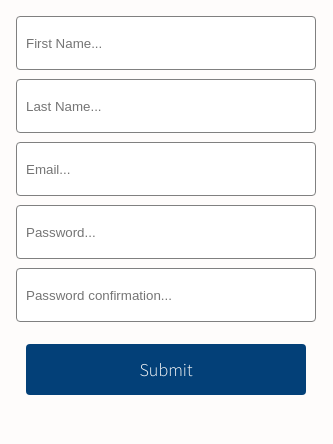
Scenario: RegisterForm tests › gives a note if password and its confirmation don't match
This screenshot has width=333, height=444.
// Simulate a user entering wrong password
Type "Firstname" into the field with placeholder "First Name...".
click(166, 43); type("Firstname")  # box [16,16,316,70]
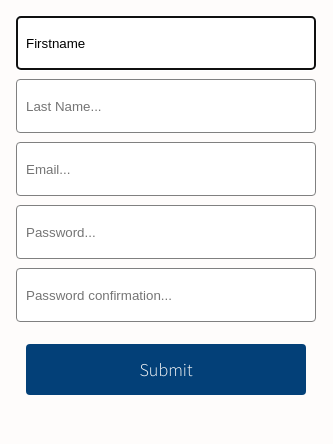
Type "Lastname" into the field with placeholder "Last Name...".
click(166, 106); type("Lastname")  # box [16,79,316,133]
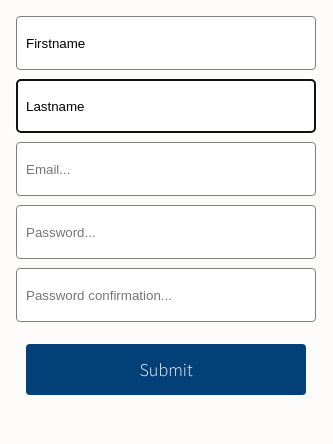
Type "name@example.fi" into the field with placeholder "Email...".
click(166, 169); type("name@example.fi")  # box [16,142,316,196]
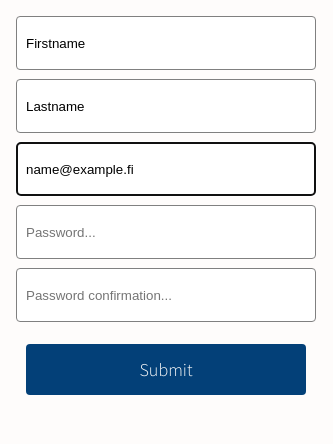
Type "password" into the password field with placeholder "Password...".
click(166, 232); type("password")  # box [16,205,316,259]
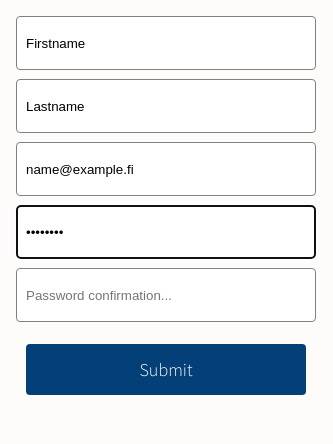
Type "passwodr" into the password field with placeholder "Password confirmation...".
click(166, 295); type("passwodr")  # box [16,268,316,322]
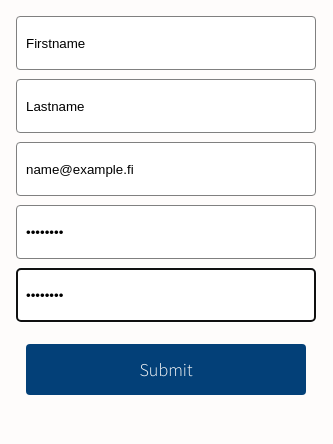
Click the button with test id "signup-submit".
click(166, 369)  # box [26,344,306,395]
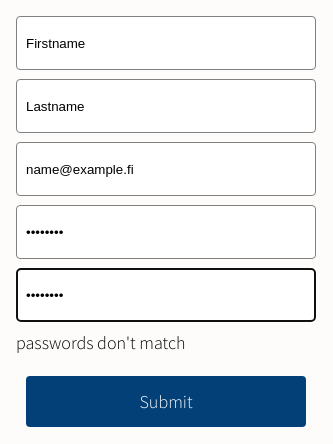
Check: the text "passwords don't match" is shown, box [16,331,186,354]
